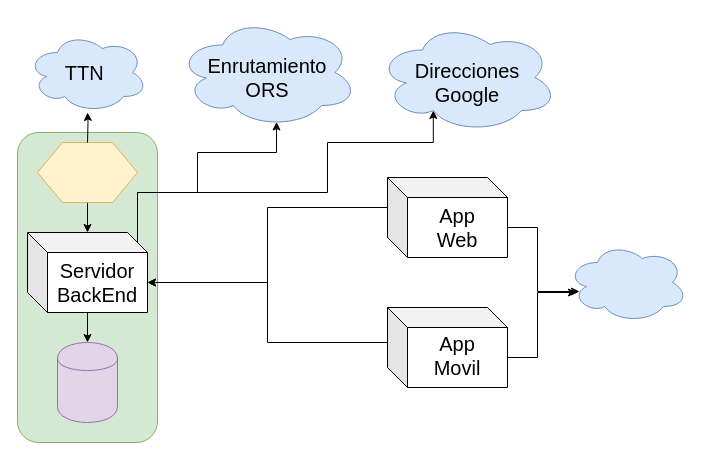
This 705x460 diagram has some shape labels left out. Here are the shapes that lost their labels. From the top down, the centre of each, then its label:
[87,172]: Cliente MQTT
[627,282]: Mapas Google
[87,382]: DB
